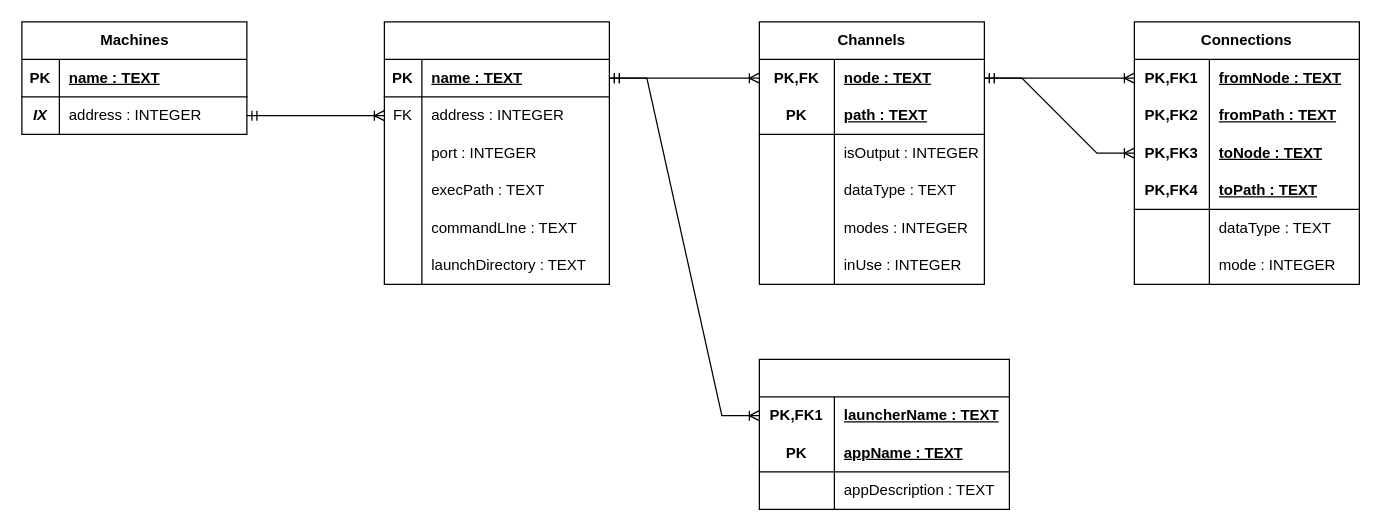
This 1381x531 diagram has some shape labels left out. The box of each missing label's shape, as (x1, y1, x2, y2) in pixels:
Applications: (758, 358, 1009, 509)
Nodes: (383, 21, 609, 284)
